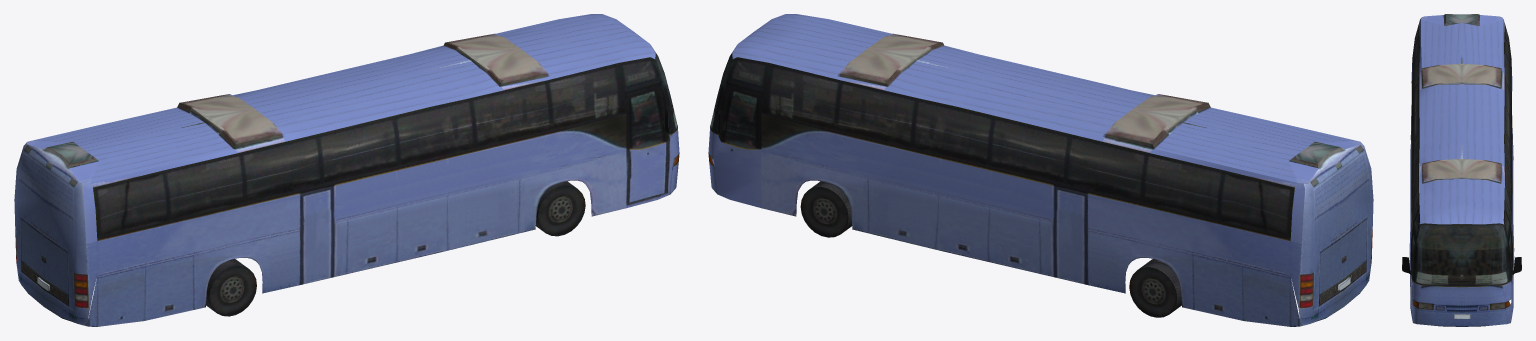
File: bus azul.FBX
The picture shows the model from 3 angles, left to right: view 1: azimuth 30°, elevation 25°; view 2: azimuth 150°, elevation 25°; view 3: azimuth 270°, elevation 25°; orthographic projection. The views are drawn at different scales.
Parts seen in each view (by area): view 1: 18BUS001, wheelbus007, wheelbus005; view 2: 18BUS001, wheelbus006, wheelbus004; view 3: 18BUS001.
Boxes of the visible parts, x1,y1,x2,y2 form: 18BUS001: (14,14,679,326); wheelbus007: (206,259,256,316); wheelbus005: (535,181,585,236); 18BUS001: (708,14,1373,326); wheelbus006: (1129,259,1181,317); wheelbus004: (800,181,852,237); 18BUS001: (1402,14,1521,326).
Size of the model in its own units: 12.71 by 3.38 by 3.04.
3 materials, 3 textured.
